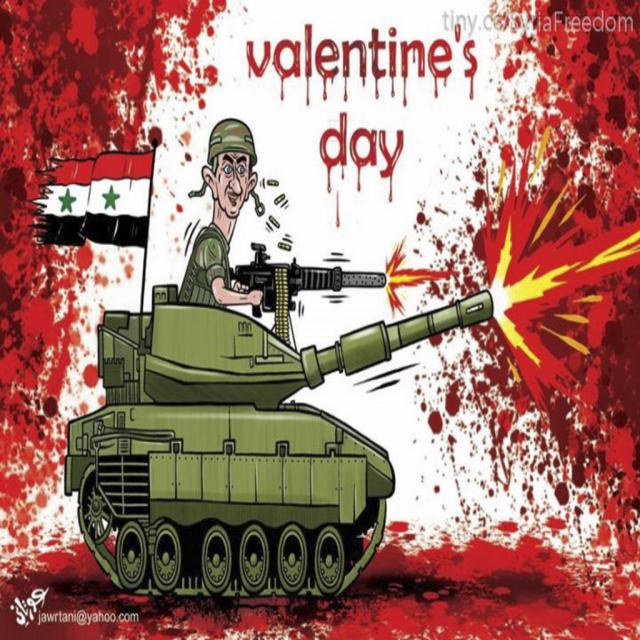tank: (63, 282, 493, 596)
